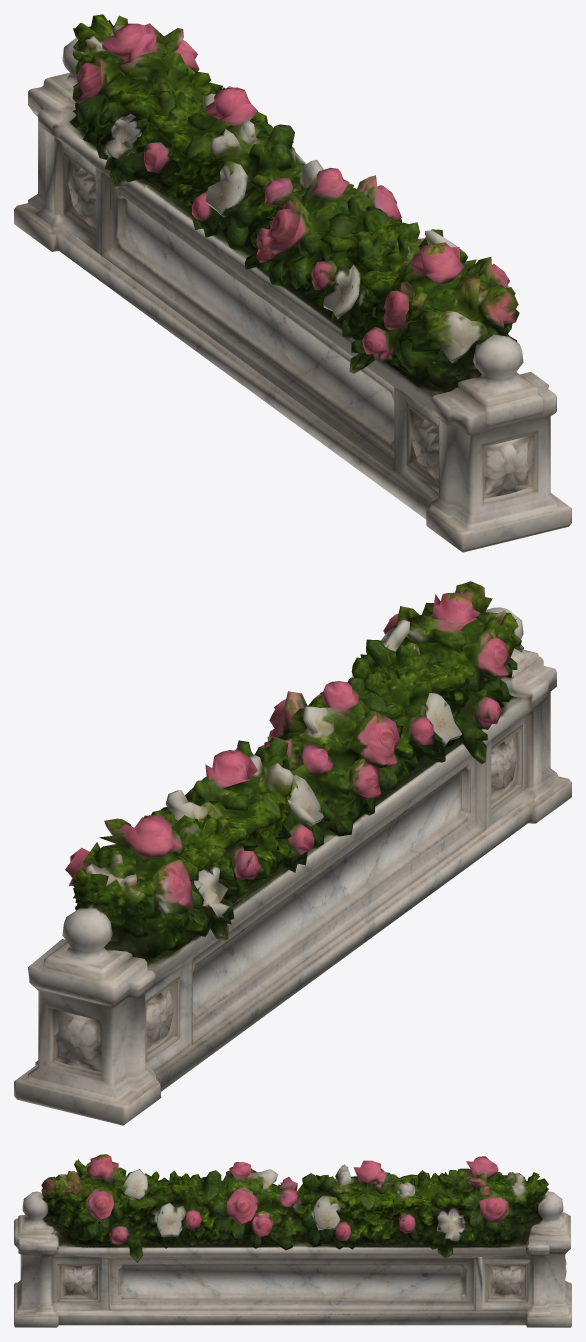
Rendered from SM_Env_HedgeBed.fbx.
The picture shows the model from 3 angles, top to bottom: view 1: azimuth 30°, elevation 25°; view 2: azimuth 150°, elevation 25°; view 3: azimuth 270°, elevation 25°; orthographic projection. The views are drawn at different scales.
Visible parts, largest first — view 1: SM_Env_HedgeBed; view 2: SM_Env_HedgeBed; view 3: SM_Env_HedgeBed.
Boxes of the visible parts, x1,y1,x2,y2 form: SM_Env_HedgeBed: (14,14,571,552); SM_Env_HedgeBed: (14,581,571,1125); SM_Env_HedgeBed: (14,1154,571,1327).
Bounding box in the file's own units: 26.71 × 150 × 45.5.
Materials: 1 (1 with a texture image).
